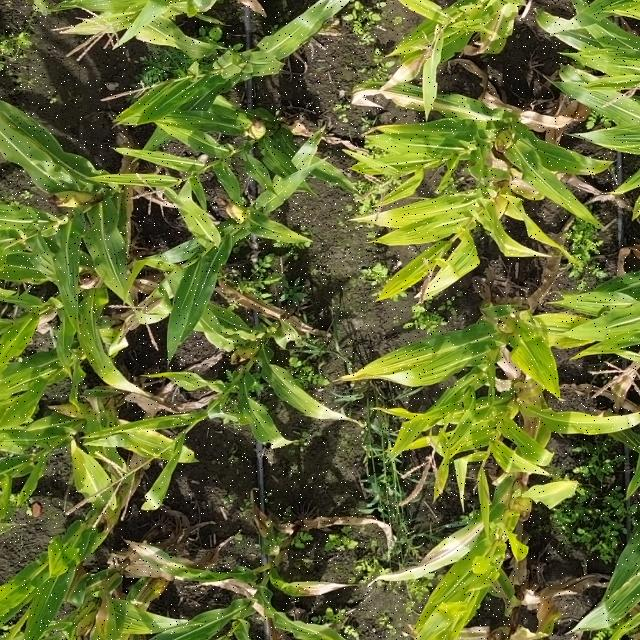gray-leaf-spot: (2, 110, 54, 149)
northern-leaf-blight: (381, 86, 459, 113), (144, 548, 198, 576), (486, 12, 515, 56), (93, 596, 120, 636), (133, 578, 163, 609)
